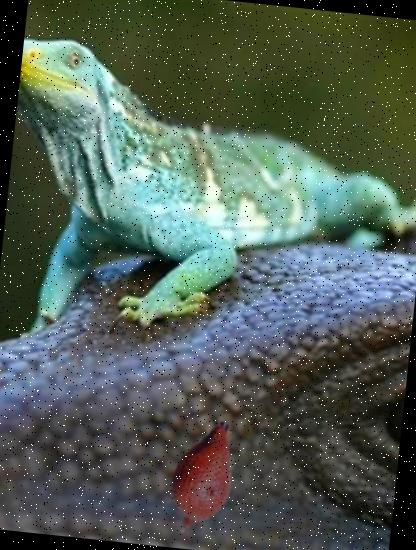Salak: (140, 414, 268, 542)
